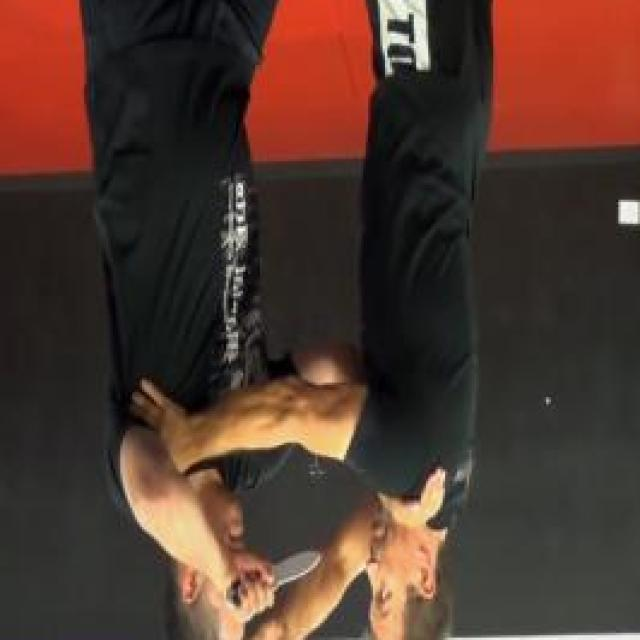knife: (224, 537, 326, 623)
